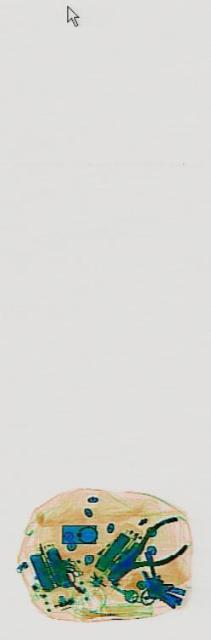Pliers: (105, 503, 186, 603)
